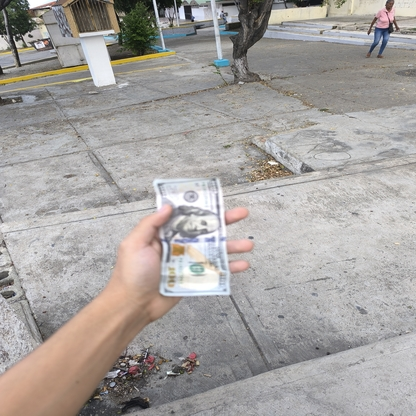one_hundred-front: (150, 174, 232, 297)
